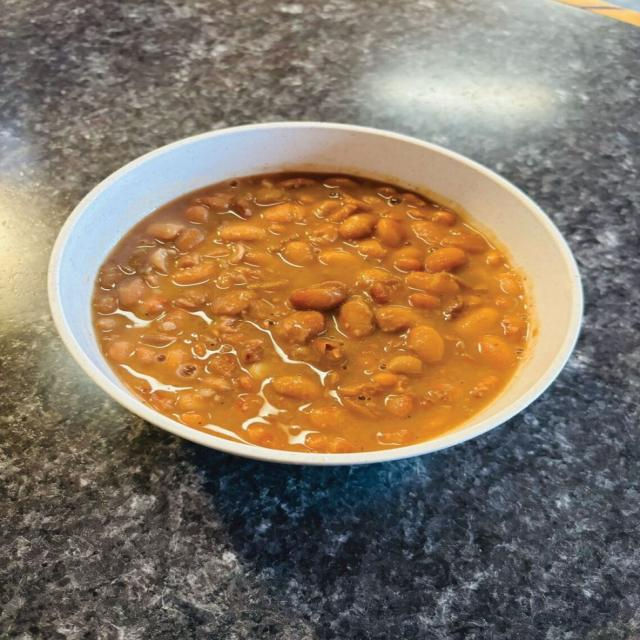beans: (93, 173, 528, 454), (290, 282, 347, 310), (277, 311, 324, 343), (407, 325, 444, 364), (454, 307, 499, 337), (339, 299, 374, 337), (479, 335, 516, 367), (209, 290, 256, 315), (271, 376, 321, 399), (406, 273, 459, 294), (375, 306, 416, 332), (425, 247, 466, 272), (117, 276, 148, 308), (339, 214, 377, 239), (442, 233, 488, 253), (305, 434, 353, 453), (174, 263, 215, 285), (308, 405, 347, 428), (220, 224, 266, 242), (263, 203, 304, 223), (343, 398, 382, 419), (376, 218, 404, 247), (312, 338, 344, 363), (208, 353, 238, 379), (411, 220, 443, 244), (98, 261, 125, 289), (394, 247, 424, 272), (283, 241, 314, 265), (358, 268, 397, 287), (387, 355, 423, 375), (157, 310, 188, 333), (319, 250, 358, 268), (174, 290, 208, 310), (175, 228, 204, 251), (196, 192, 232, 210), (385, 395, 413, 417), (470, 376, 498, 398), (309, 223, 337, 245), (247, 424, 275, 446), (147, 223, 183, 240), (327, 203, 358, 222), (140, 296, 168, 317), (178, 391, 207, 411), (358, 239, 387, 259), (239, 340, 263, 364), (502, 316, 526, 339), (312, 199, 341, 217), (108, 342, 134, 362), (499, 273, 521, 296), (409, 293, 440, 309), (243, 251, 276, 266), (149, 248, 168, 274), (370, 282, 392, 304), (443, 297, 464, 320), (255, 188, 285, 204), (378, 430, 410, 445), (140, 334, 175, 347), (344, 196, 374, 211), (248, 425, 270, 445), (277, 178, 316, 189), (371, 372, 399, 387), (185, 205, 208, 223), (176, 252, 201, 268), (232, 198, 253, 217), (238, 373, 259, 392), (135, 346, 156, 364), (432, 210, 457, 225), (95, 296, 117, 313), (493, 295, 516, 311), (95, 317, 121, 331), (181, 413, 207, 427), (395, 259, 422, 272), (324, 177, 358, 187), (402, 194, 425, 207), (486, 251, 505, 266), (177, 365, 198, 377), (376, 186, 397, 198), (462, 295, 483, 307), (269, 223, 286, 235), (298, 194, 315, 204)
